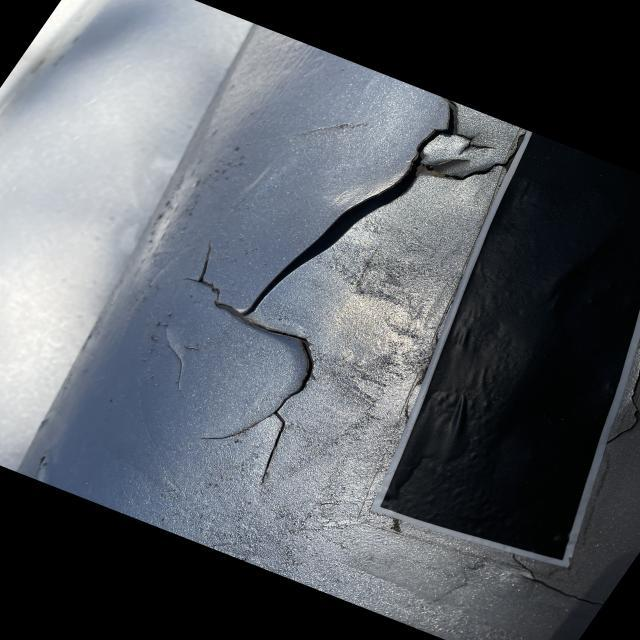crack: (255, 170, 439, 315), (216, 326, 327, 442), (184, 252, 242, 320)
